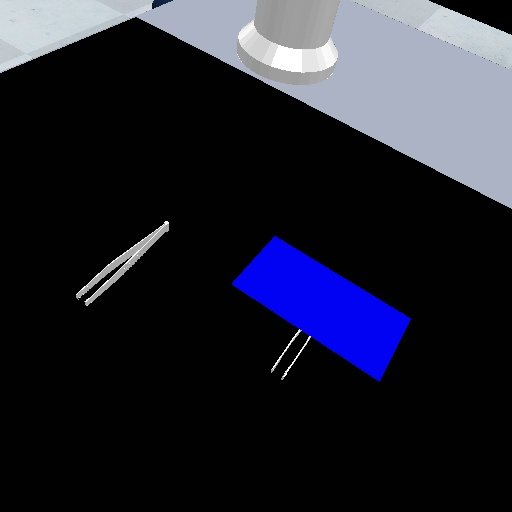pinza: (70, 216, 173, 311), (268, 325, 312, 382)
